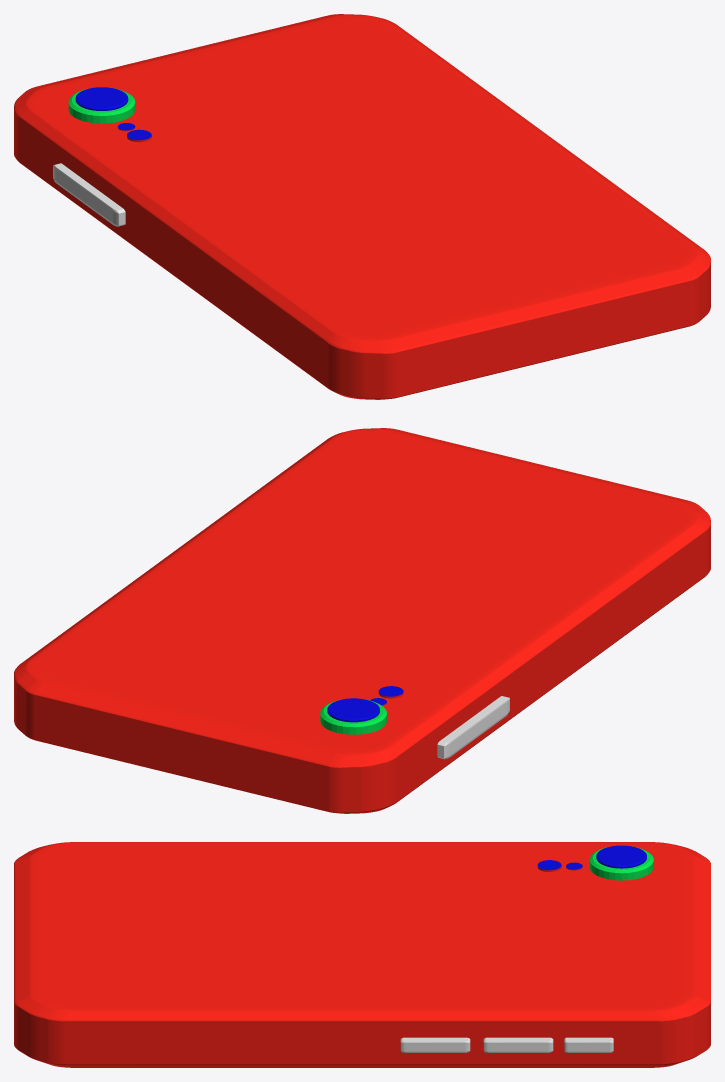
File: phone.fbx
3 views of the same model, one above another, from view 1: azimuth 30°, elevation 25°; view 2: azimuth 150°, elevation 25°; view 3: azimuth 270°, elevation 25° (orthographic). The views are drawn at different scales.
Visible parts, largest first — view 1: Cylinder.002; view 2: Cylinder.002; view 3: Cylinder.002.
Part boxes in pixels (bbox=[...]): Cylinder.002: bbox=[14, 14, 710, 399]; Cylinder.002: bbox=[14, 428, 710, 813]; Cylinder.002: bbox=[14, 842, 710, 1067].
Size of the model in its own units: 520 by 91.16 by 828.
